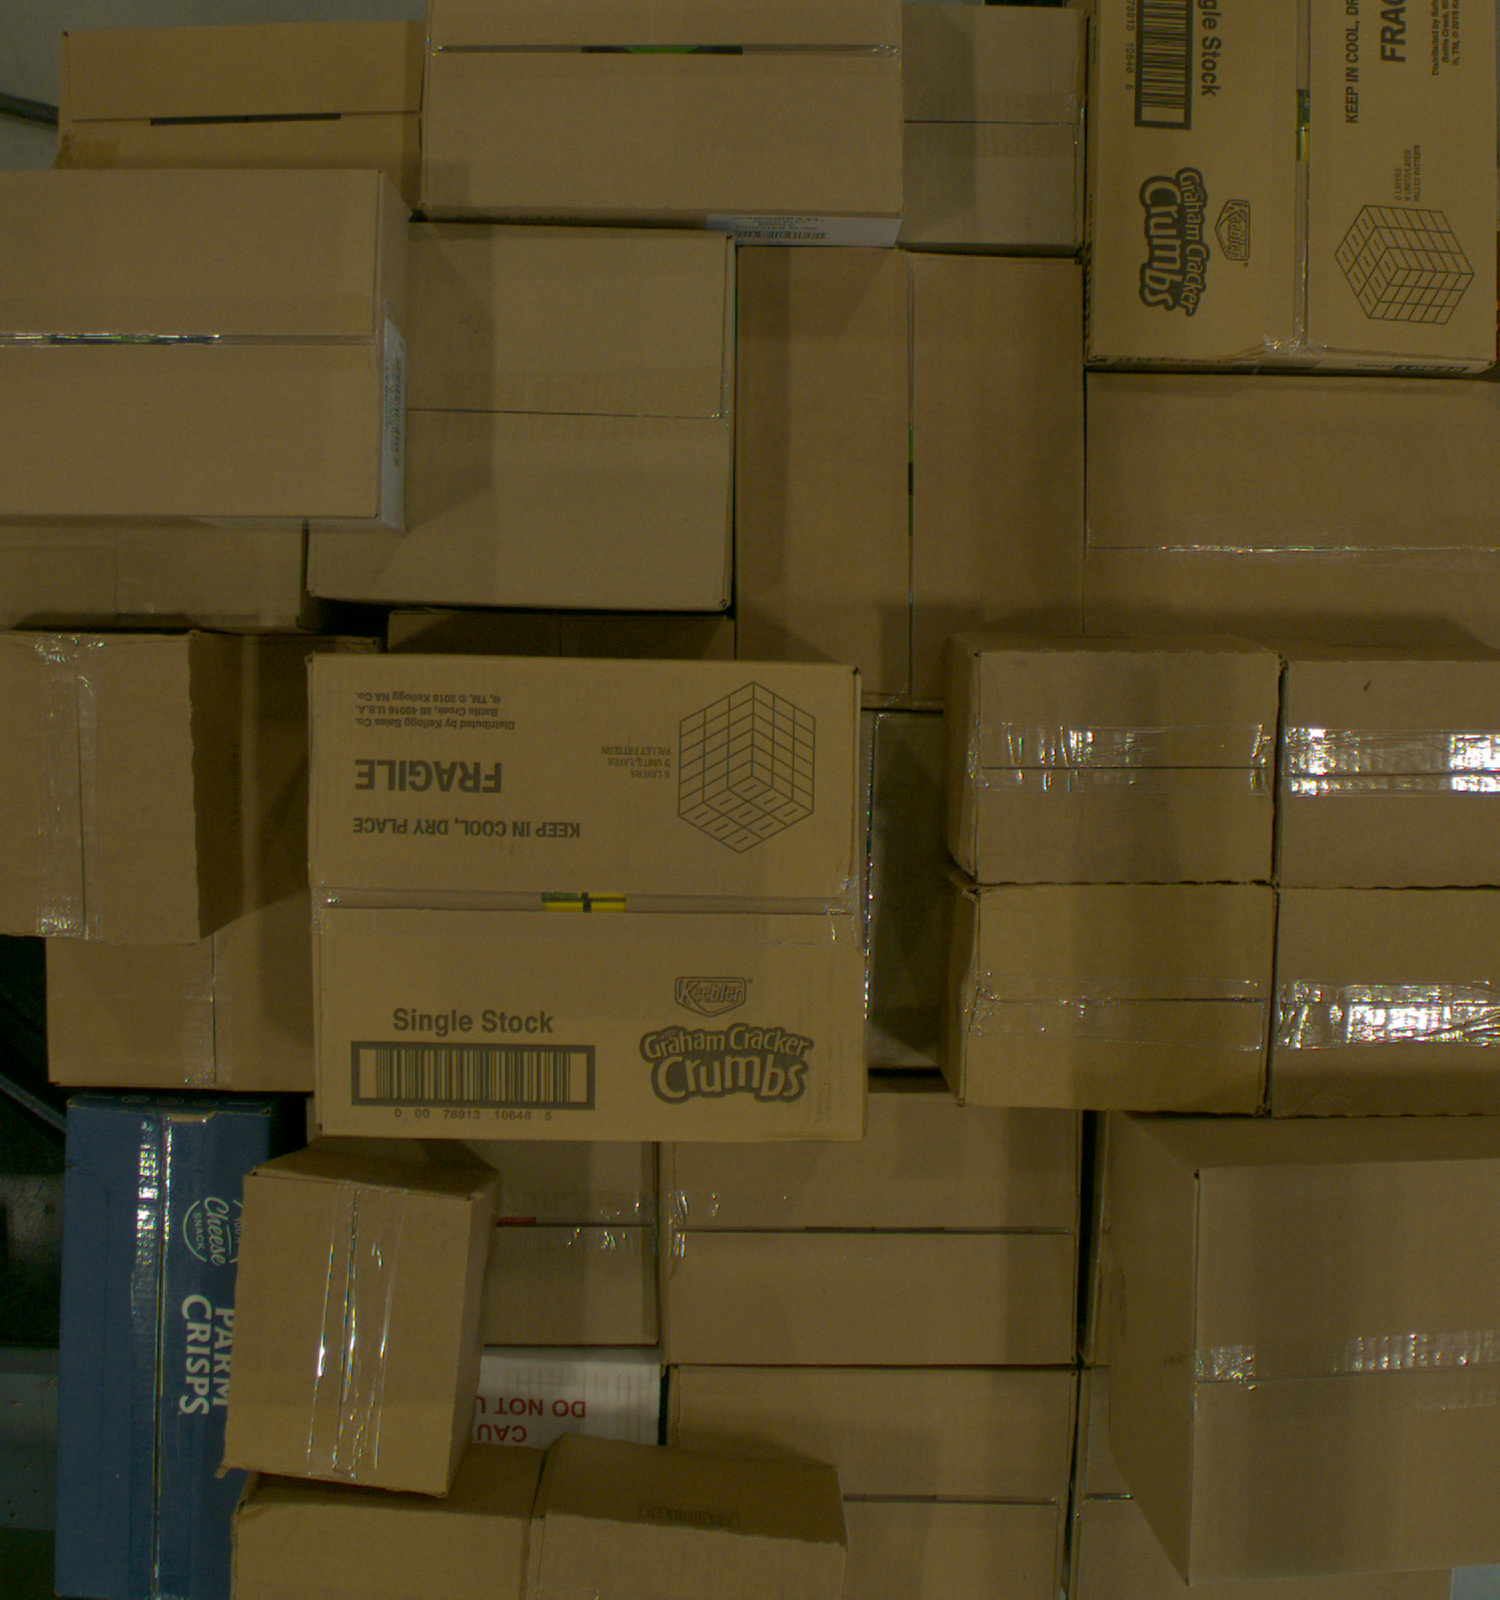box top: (310, 656, 863, 1140), (309, 223, 734, 610), (737, 244, 1086, 710), (47, 637, 381, 1091), (1093, 1, 1494, 368), (1188, 1157, 1500, 1586), (1, 169, 382, 515), (1086, 369, 1500, 648), (661, 1094, 1083, 1365), (56, 1105, 271, 1600), (422, 1, 906, 211), (670, 1366, 1078, 1600), (1069, 1369, 1453, 1600), (223, 1169, 474, 1496), (959, 887, 1277, 1115), (971, 653, 1281, 882), (316, 1139, 656, 1345), (1, 632, 200, 944), (56, 21, 427, 168), (1272, 884, 1500, 1119), (1279, 663, 1500, 887), (899, 4, 1088, 247), (1, 529, 303, 629), (233, 1506, 530, 1600), (524, 1515, 850, 1600), (474, 1356, 661, 1451)
